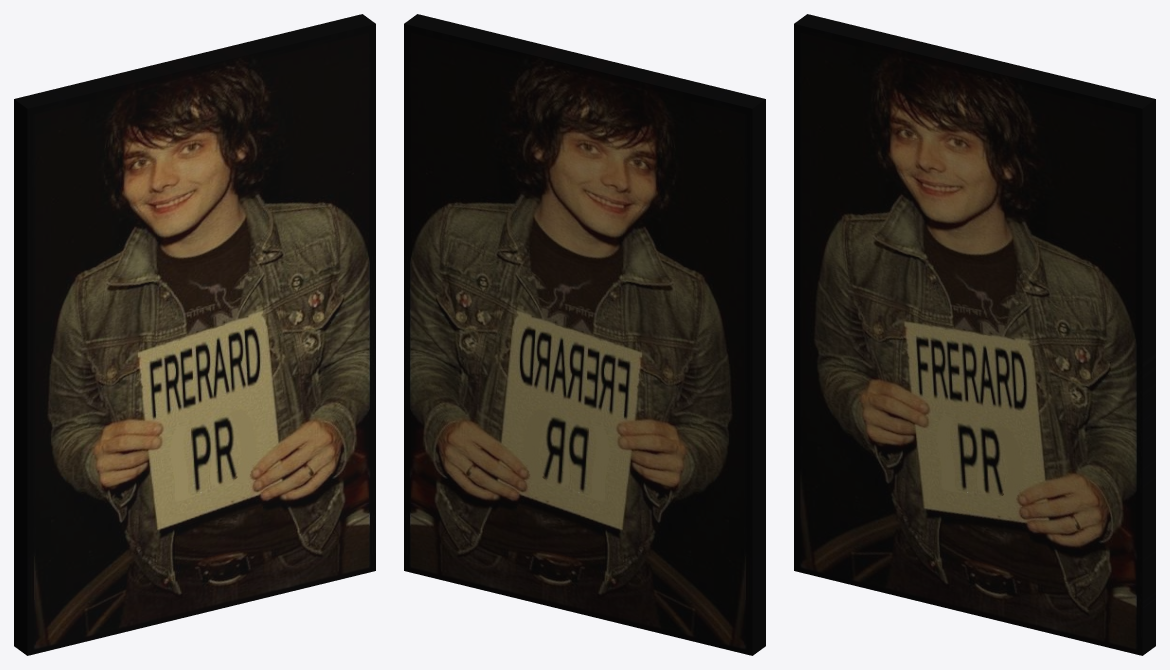
The model's file is FrerardPiar.fbx.
The picture shows the model from 3 angles, left to right: view 1: azimuth 30°, elevation 25°; view 2: azimuth 150°, elevation 25°; view 3: azimuth 330°, elevation 25°; orthographic projection.
Parts seen in each view (by area): view 1: Plane.018, Plane.016, Plane.019, Plane.017, Plane.020, Plane.021; view 2: Plane.018, Plane.016, Plane.019, Plane.017, Plane.020, Plane.021; view 3: Plane.017, Plane.021, Plane.020, Plane.018, Plane.016, Plane.019.
Boxes of the visible parts, x1,y1,x2,y2 form: Plane.018: [14, 56, 201, 290]; Plane.016: [14, 431, 201, 655]; Plane.019: [14, 249, 201, 473]; Plane.017: [188, 14, 375, 248]; Plane.020: [201, 206, 375, 430]; Plane.021: [201, 388, 375, 613]; Plane.018: [578, 56, 765, 290]; Plane.016: [578, 431, 765, 655]; Plane.019: [578, 249, 765, 473]; Plane.017: [404, 14, 591, 248]; Plane.020: [404, 206, 578, 430]; Plane.021: [404, 388, 578, 613]; Plane.017: [968, 56, 1155, 290]; Plane.021: [968, 431, 1155, 655]; Plane.020: [968, 249, 1155, 473]; Plane.018: [794, 14, 981, 248]; Plane.016: [794, 388, 968, 613]; Plane.019: [794, 206, 968, 430].
Bounding box in the file's own units: 466 × 699 × 31.06.
